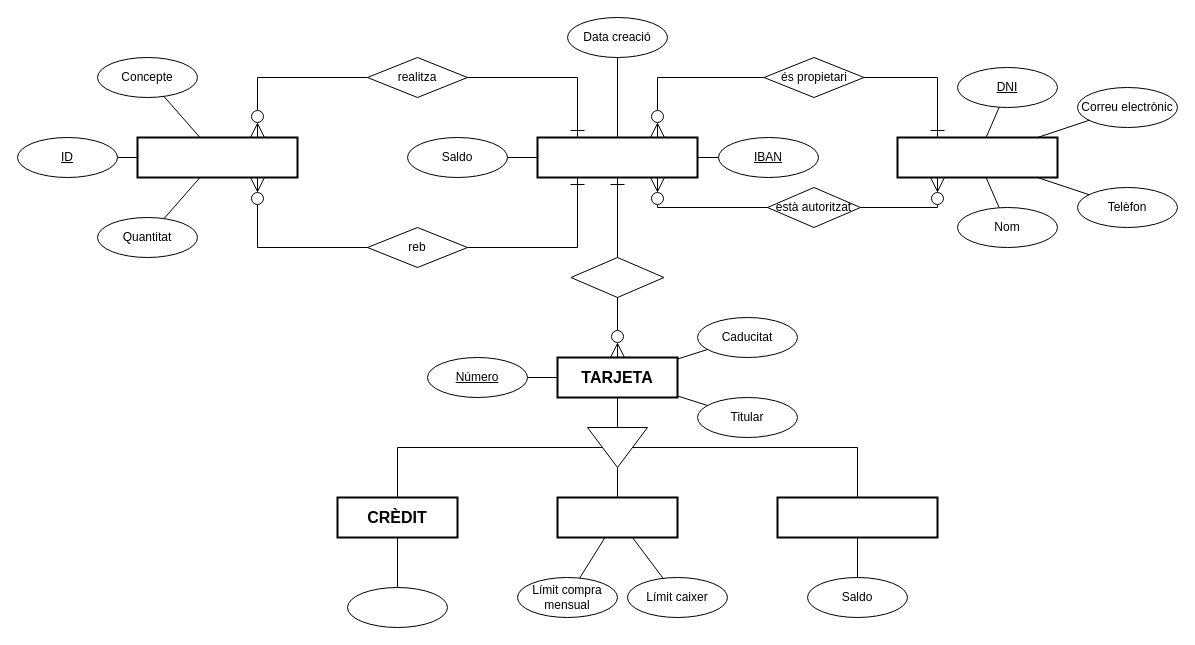
This 1195x645 diagram has some shape labels left out. Here are the shapes that lost their labels. From the top down, the centre of each, then its label:
the point at 217,157: TRANSFERÈNCIA
the point at 617,157: COMPTE BANCARI
the point at 977,157: USUARI
the point at 617,277: té
the point at 617,517: DÈBIT
the point at 857,517: PREPAGAMENT
the point at 397,607: Crèdit màxim
